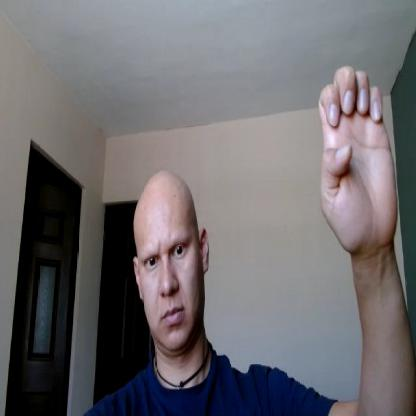E: (317, 66, 399, 249)
